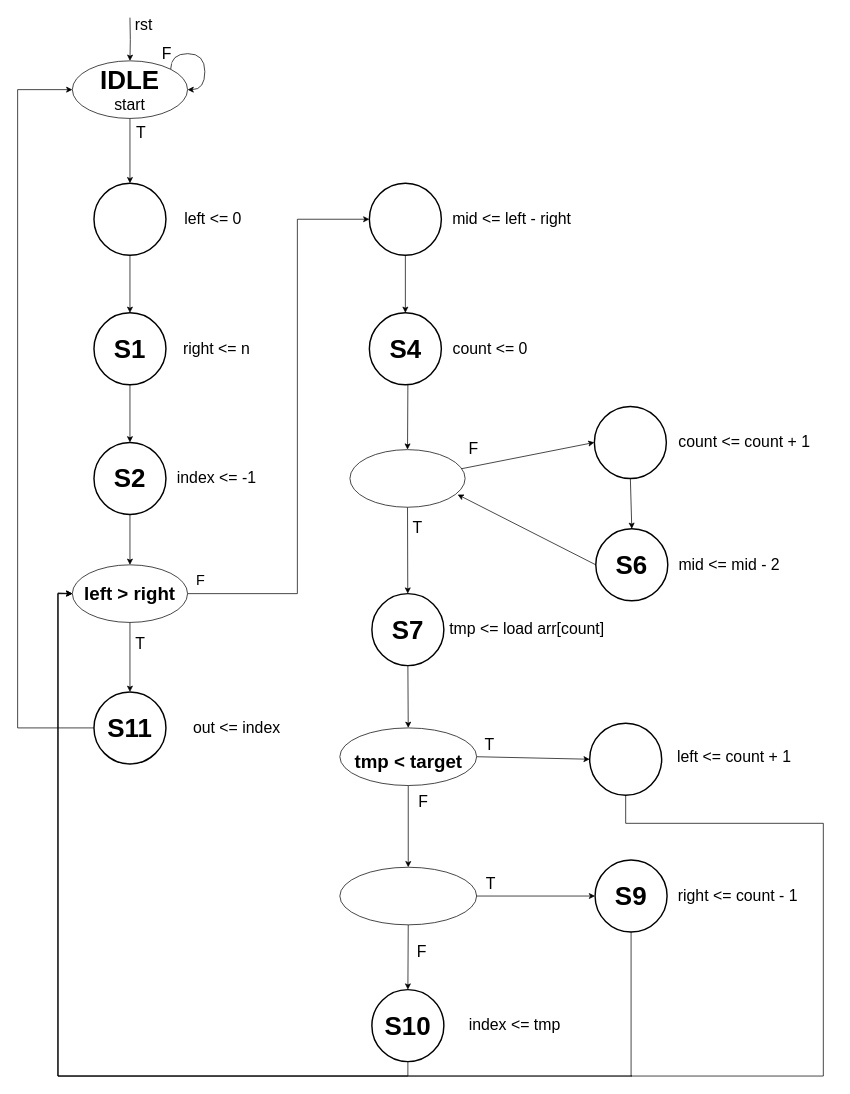
Some shapes in this 850 by 1094 pixel diagram are drawn without their labels. Here are the shapes that lost their labels. From the top down, the centre of each, then its label:
At (129,219): "S0".
At (405,219): "S3".
At (630,442): "S5".
At (407,478): "mid < 2".
At (625,759): "S8".
At (408,896): "tmp > target".
